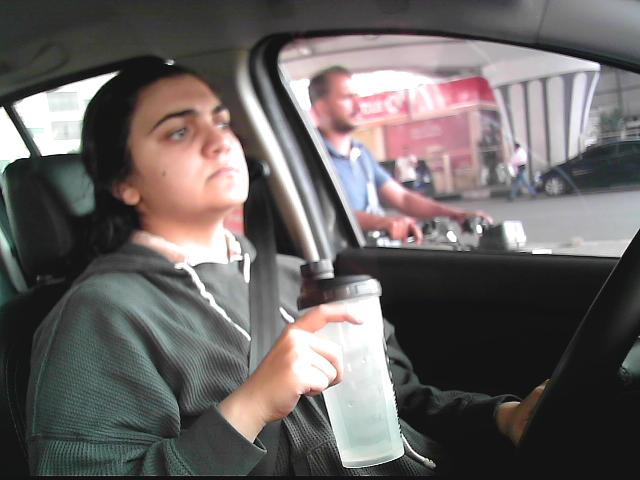Drinking: (294, 253, 407, 471)
